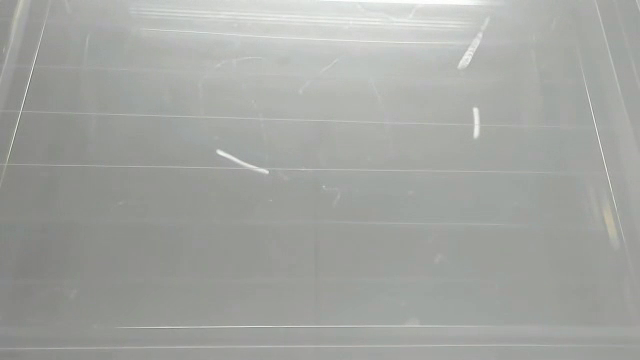alpha: (455, 13, 496, 73), (212, 144, 276, 179), (468, 104, 487, 141)
